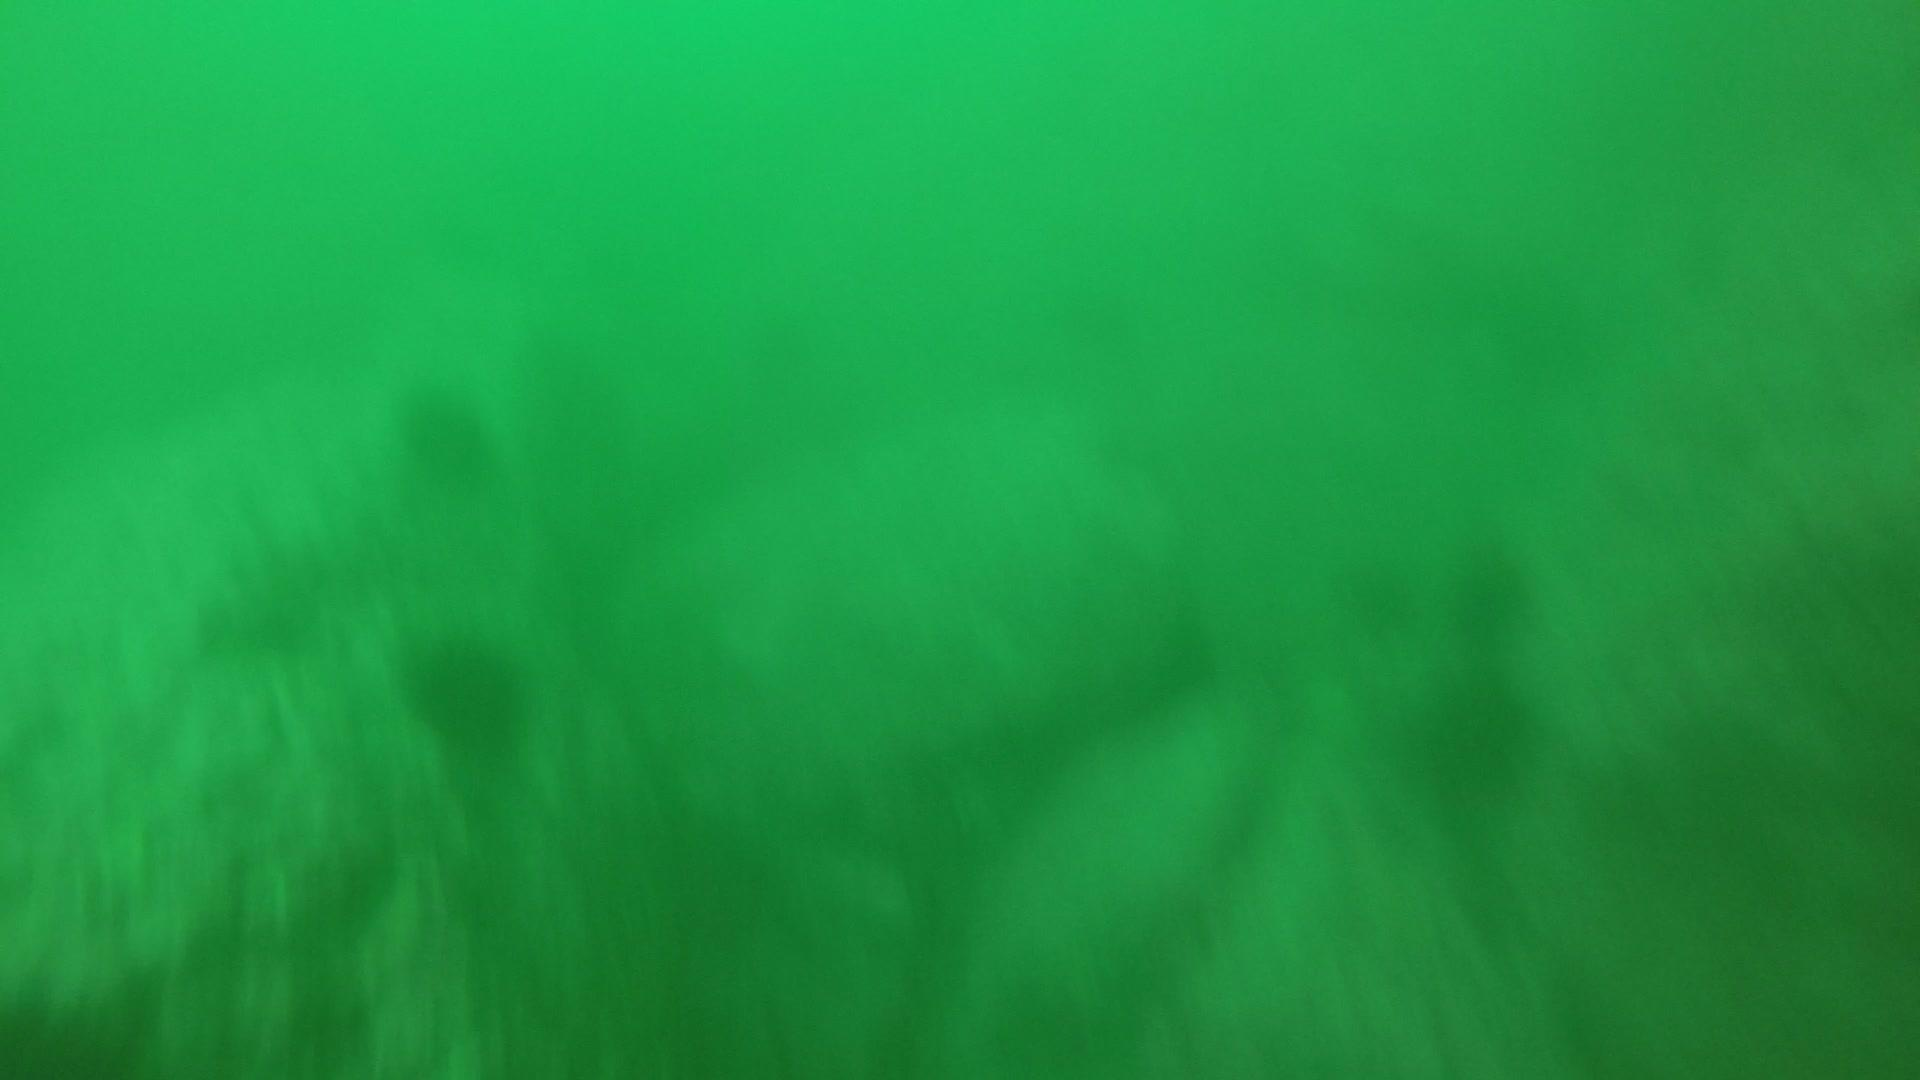echinus: (1407, 669, 1539, 812), (400, 626, 533, 761), (392, 376, 497, 487), (1443, 537, 1540, 644), (1325, 550, 1415, 642)
